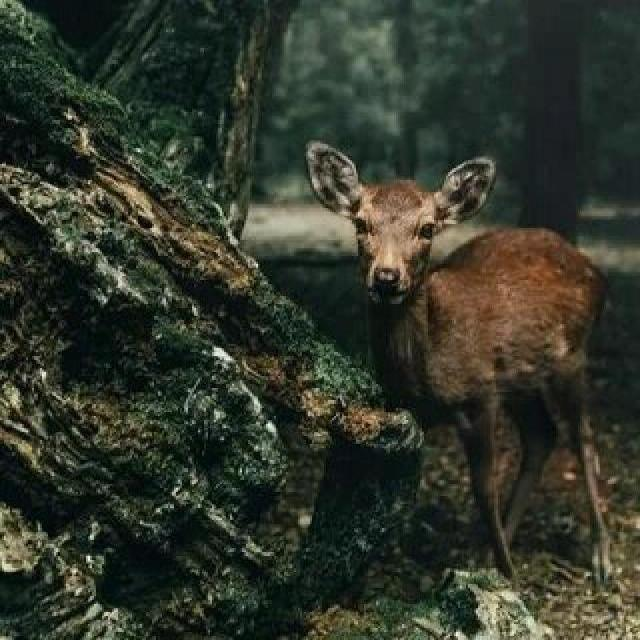deer: (276, 126, 640, 550)
